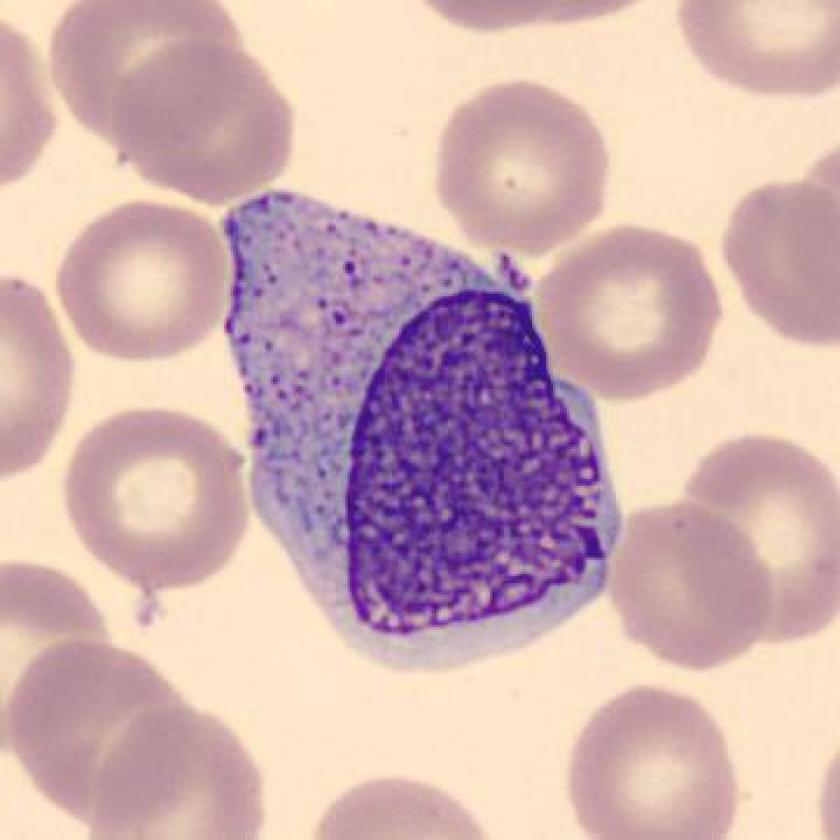monocyte: (195, 166, 640, 696)
